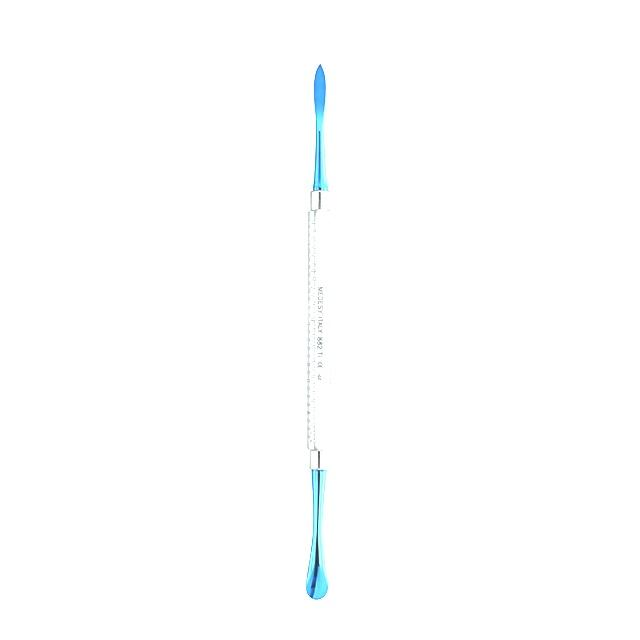elevador: (301, 63, 334, 606)
